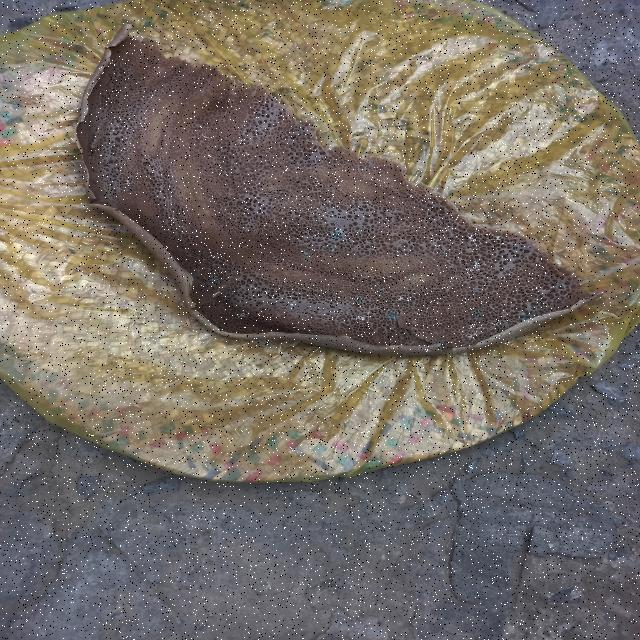injera_mold: (460, 323, 486, 341), (342, 311, 372, 323), (384, 309, 399, 320), (233, 312, 248, 320), (472, 309, 485, 318), (332, 230, 343, 238), (330, 244, 339, 252), (210, 274, 220, 281), (438, 341, 448, 346), (488, 333, 496, 338), (304, 252, 310, 258), (124, 180, 132, 184), (436, 322, 442, 326), (398, 296, 403, 300), (357, 298, 363, 301), (291, 326, 297, 329), (289, 303, 294, 306), (380, 288, 386, 290), (258, 312, 262, 314), (406, 299, 409, 301), (239, 300, 242, 302)
